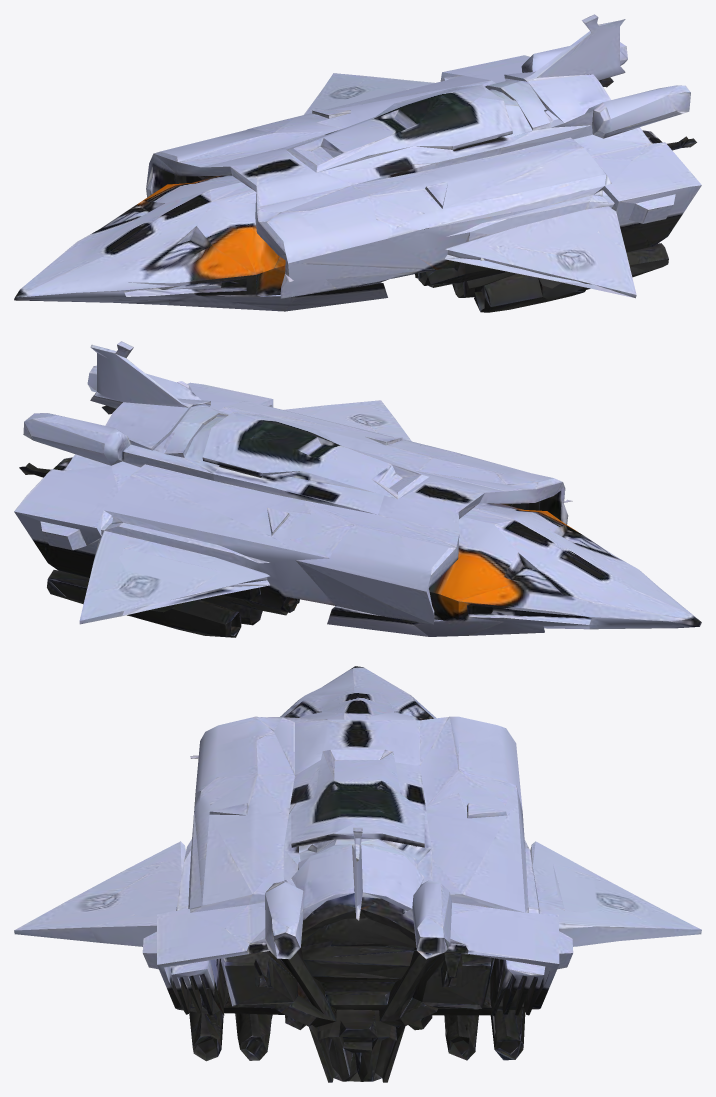
Rendered from nation-u-carrier.glb.
3 views of the same model, one above another, from view 1: azimuth 30°, elevation 25°; view 2: azimuth 150°, elevation 25°; view 3: azimuth 270°, elevation 25° (orthographic). The views are drawn at different scales.
Size of the model in its own units: 1.9 by 0.6093 by 1.55.
1 material, 1 textured.
